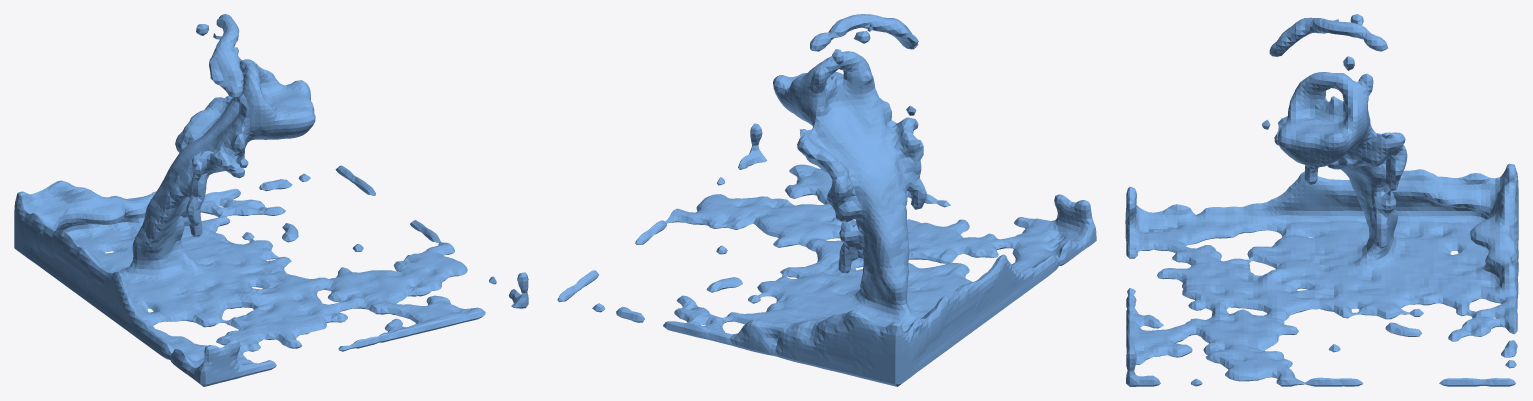
The model's file is water_0054.glb.
The picture shows the model from 3 angles, left to right: view 1: azimuth 30°, elevation 25°; view 2: azimuth 150°, elevation 25°; view 3: azimuth 270°, elevation 25°; orthographic projection. The views are drawn at different scales.
Parts seen in each view (by area): view 1: Water_0054; view 2: Water_0054; view 3: Water_0054.
Part boxes in pixels (x1,y1,x2,y2): Water_0054: [14, 14, 528, 386]; Water_0054: [557, 14, 1096, 386]; Water_0054: [1125, 14, 1518, 386].
Bounding box in the file's own units: 4.83 × 3.63 × 4.83.
